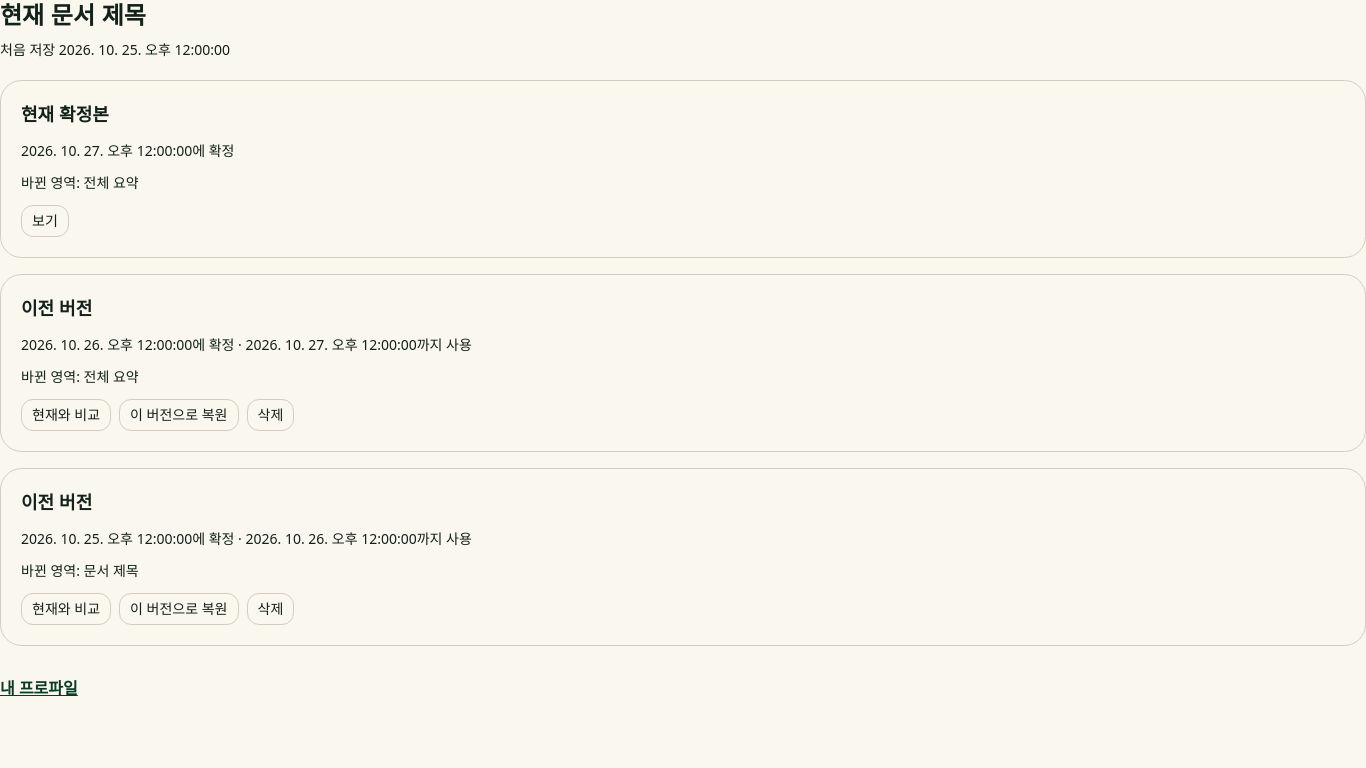
Test case: displays the repository error if restoration fails
What coordinates should you click on to do the following:
click the 1st button "이 버전으로 복원"
I would click on:
 (179, 415)
Its box is [119,399,238,431].
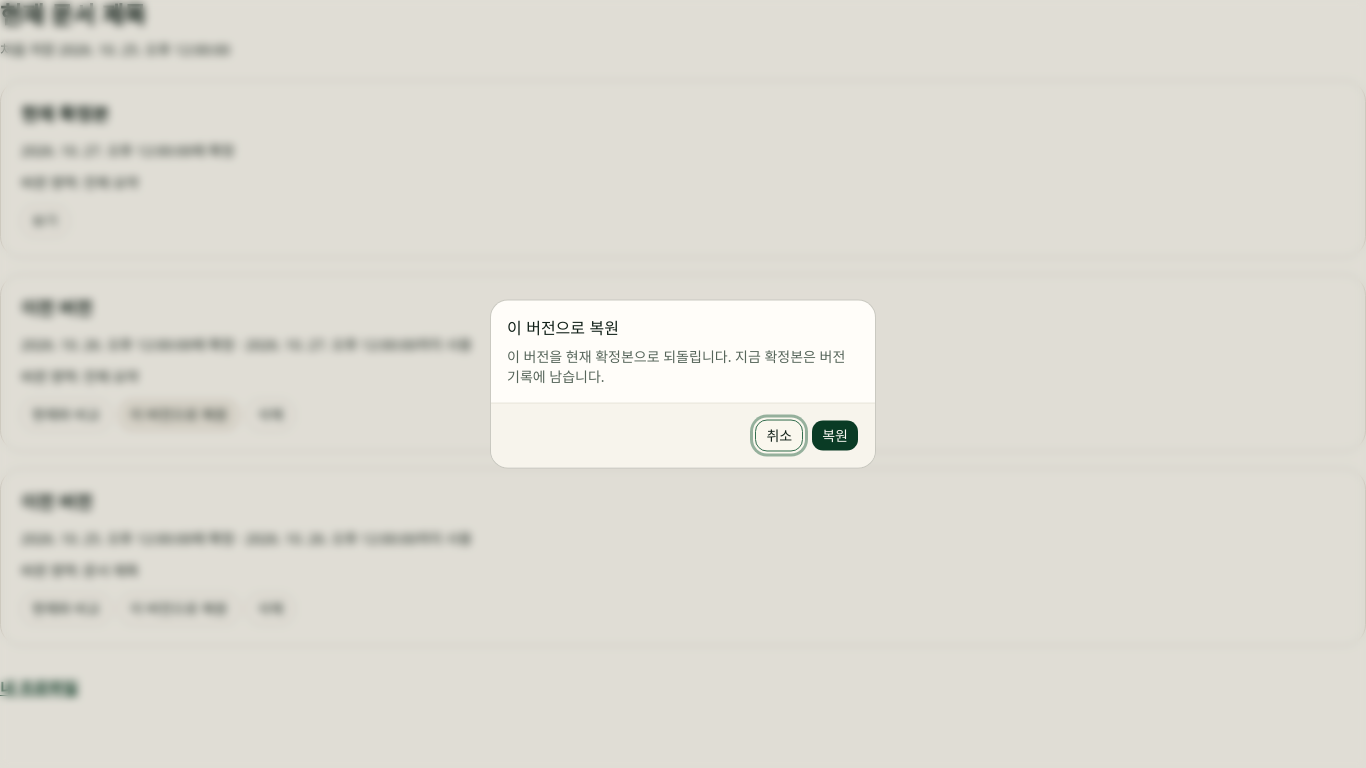
What coordinates should you click on to do the following:
click the button "복원"
I would click on:
 (835, 436)
Its box is [811,420,859,452].
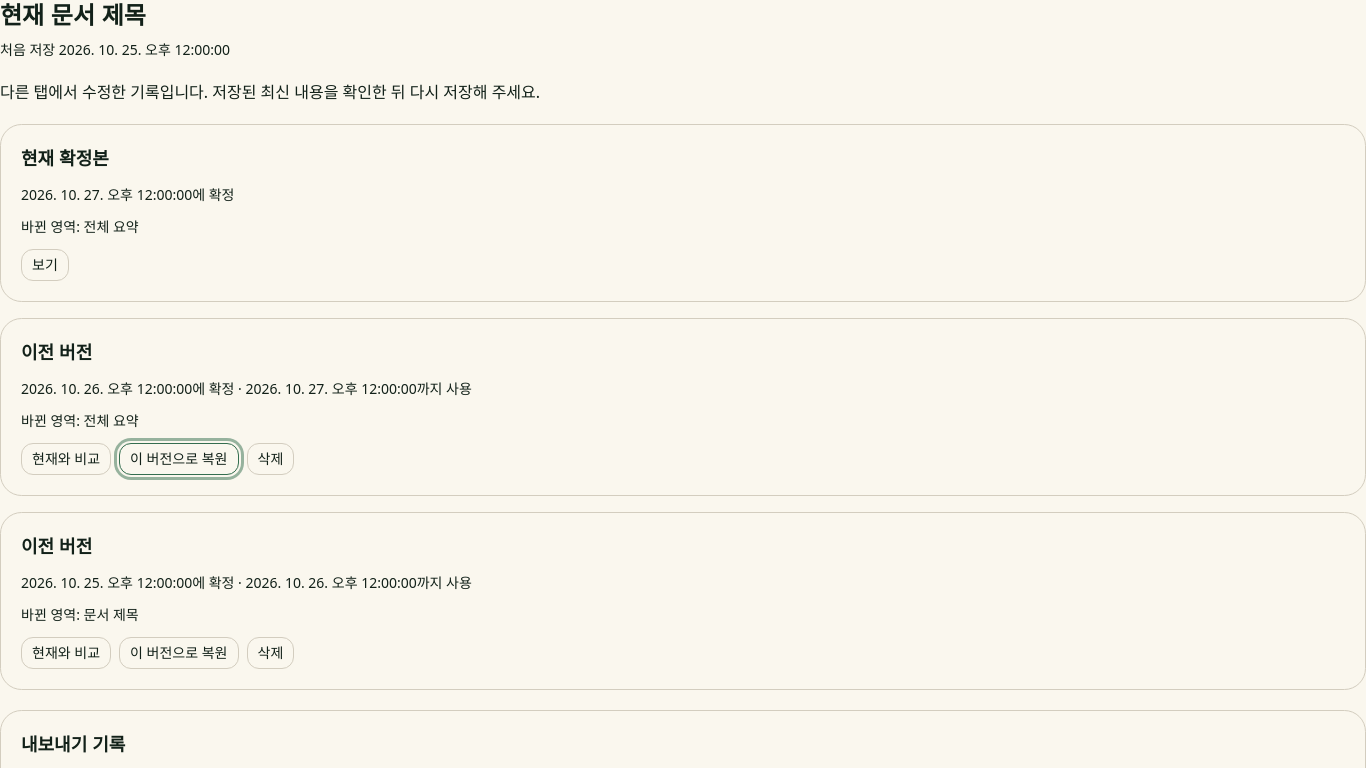
Expected: the number of list items is 3, [0,124,1365,302]; [0,318,1365,496]; [0,512,1365,690]
Result: the message reads "다른 탭에서 수정한 기록입니다. 저장된 최신 내용을 확인한 뒤 다시 저장해 주세요." at [0,81,540,103]
